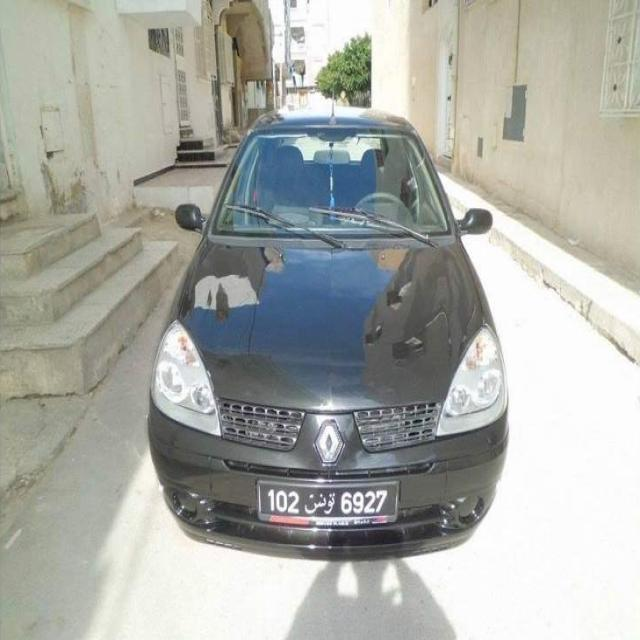licence plate: (260, 485, 396, 514)
